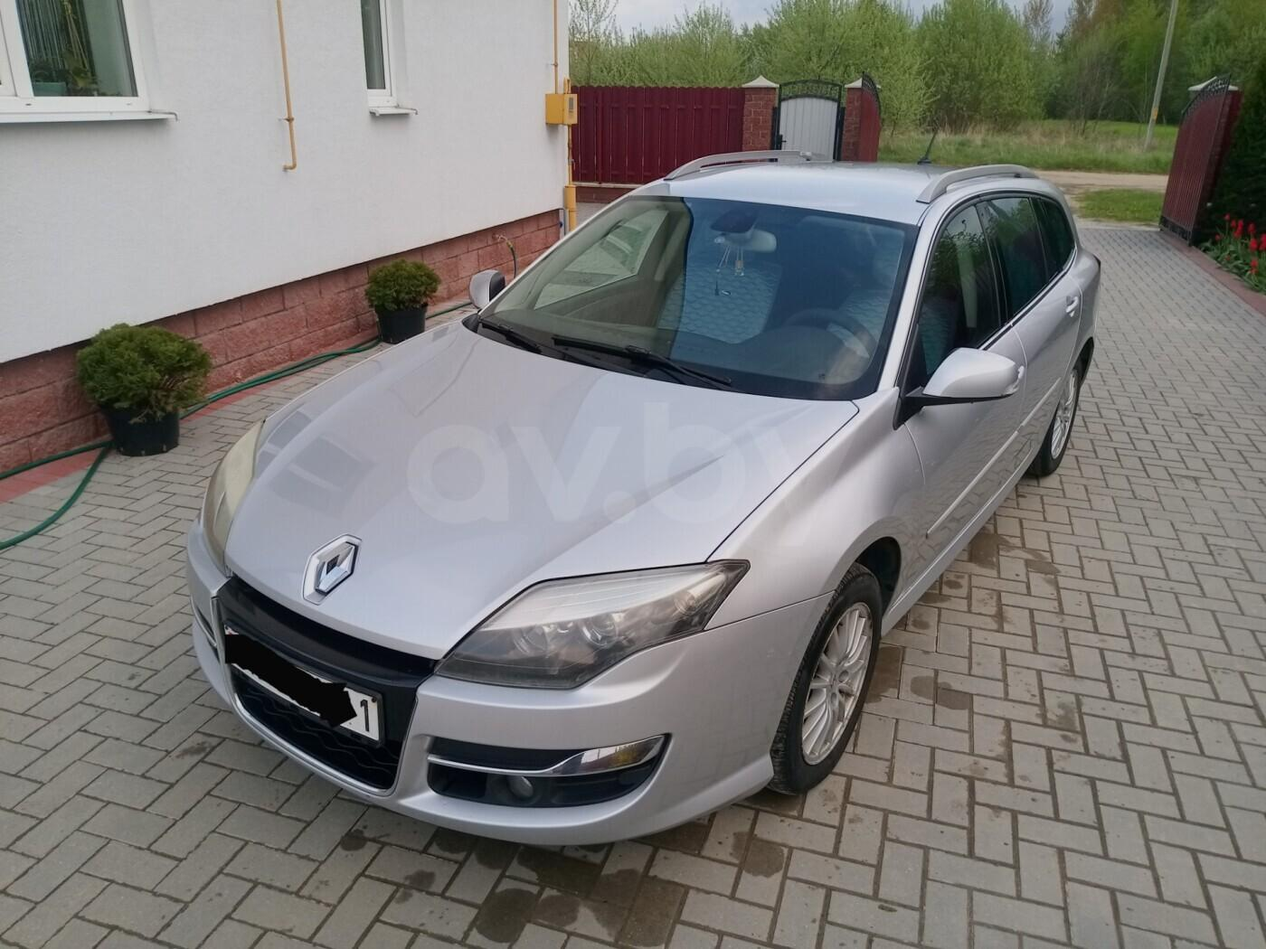Laguna_2010-2015: (177, 154, 1094, 853)
